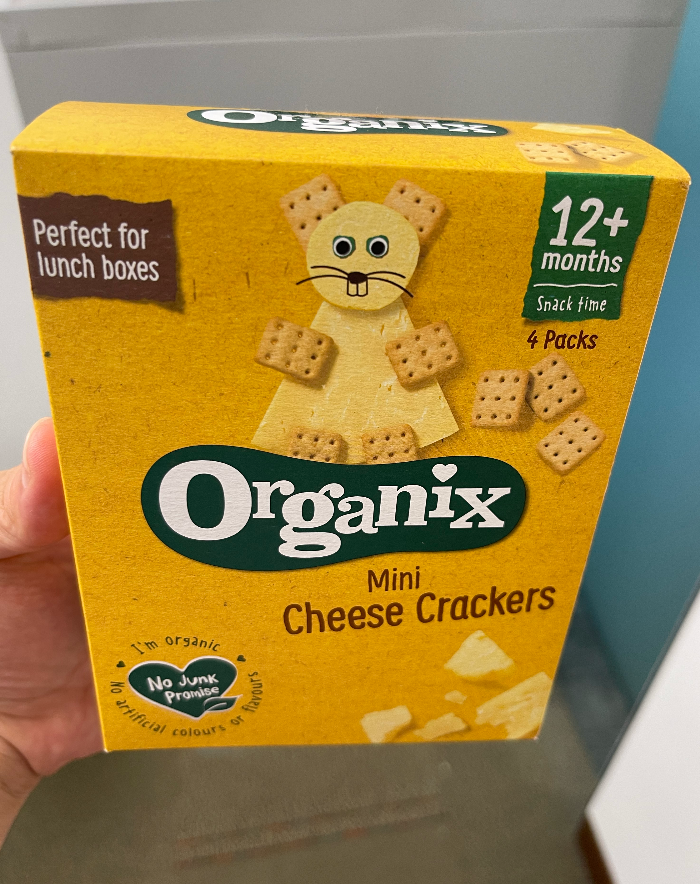crackers_1g-99g: (53, 164, 628, 717)
